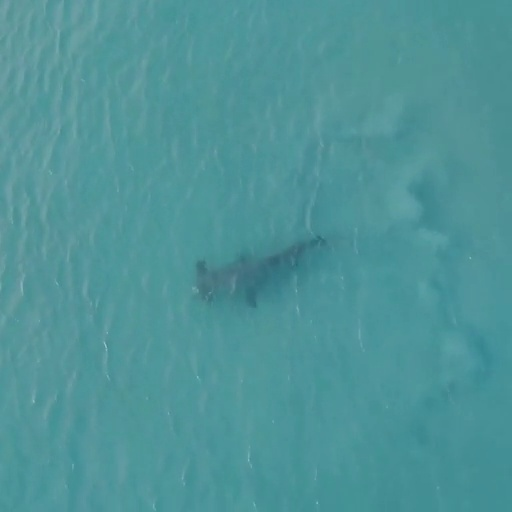shark: (193, 234, 329, 309)
